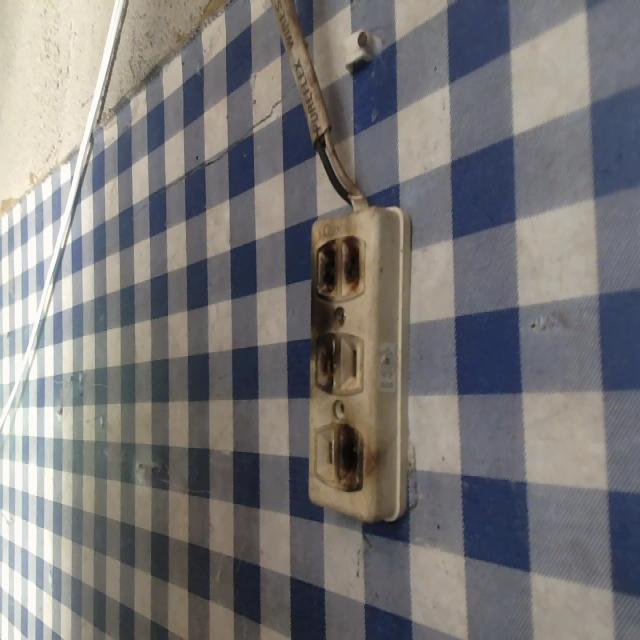-: (310, 233, 371, 308), (333, 412, 370, 507), (309, 320, 348, 397)
